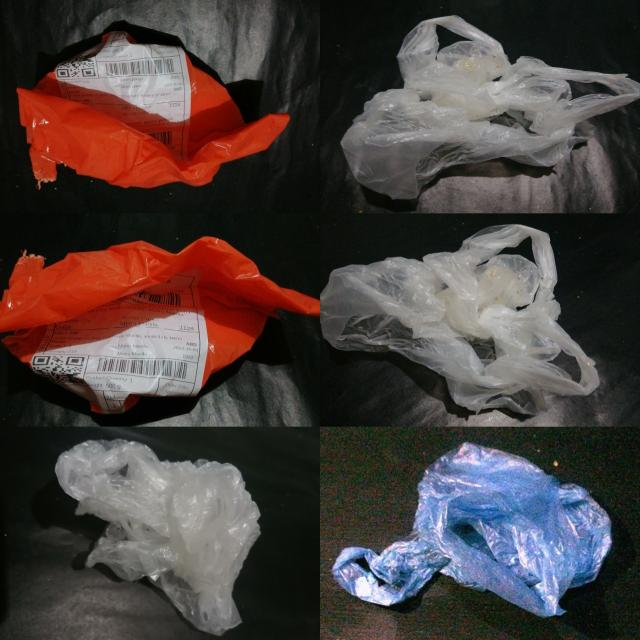Single-layer Plastic: (0, 238, 319, 414), (342, 15, 640, 199), (320, 225, 599, 414), (333, 442, 612, 616), (18, 30, 289, 188), (55, 440, 260, 635)
